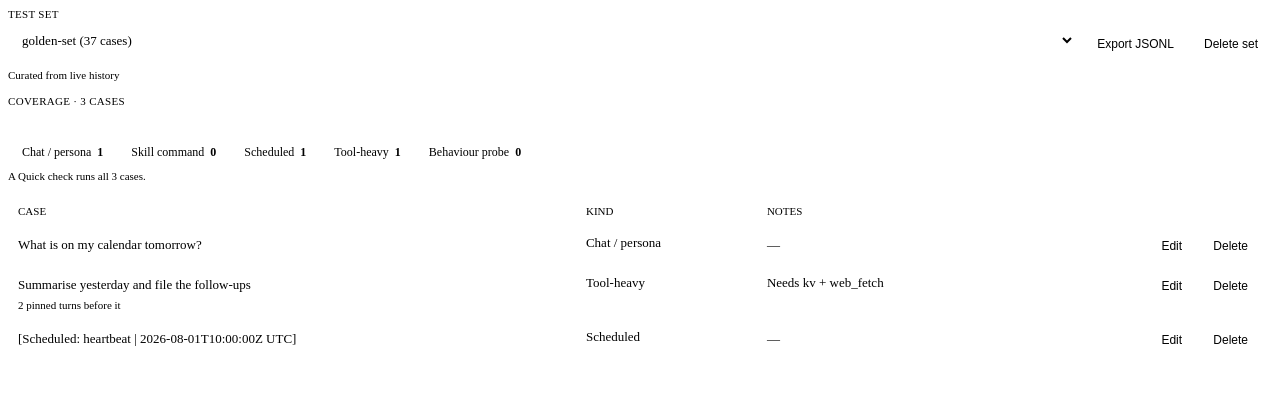
Scenario: EvalTestSets — export › a failed export says so
This screenshot has width=1280, height=396.
Expected: the table with test id "cases-table" is shown, left=8, top=196, right=1272, bottom=360
Click the button with test id "export-set" at (1136, 44), box left=1087, top=33, right=1184, bottom=55
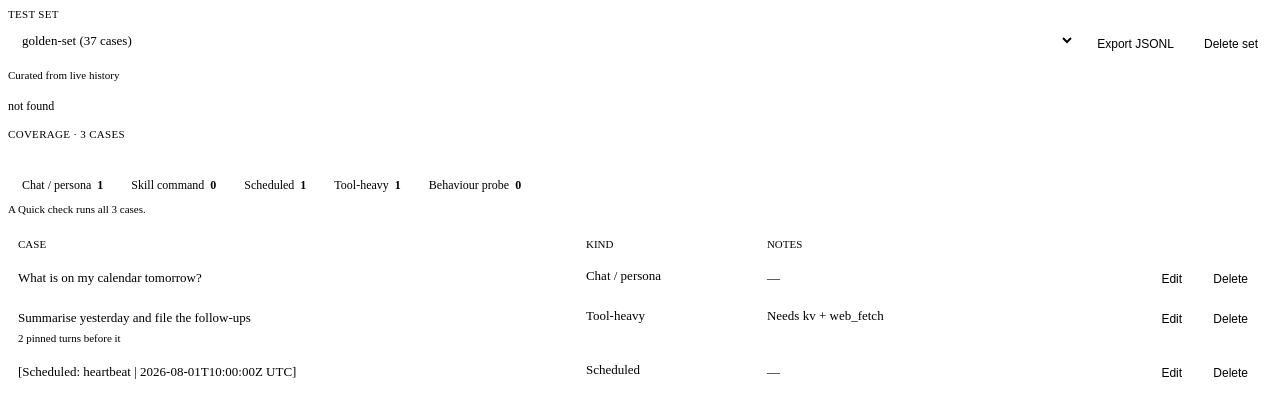
Now the message with test id "export-error" reads "not found", box left=8, top=99, right=54, bottom=113
